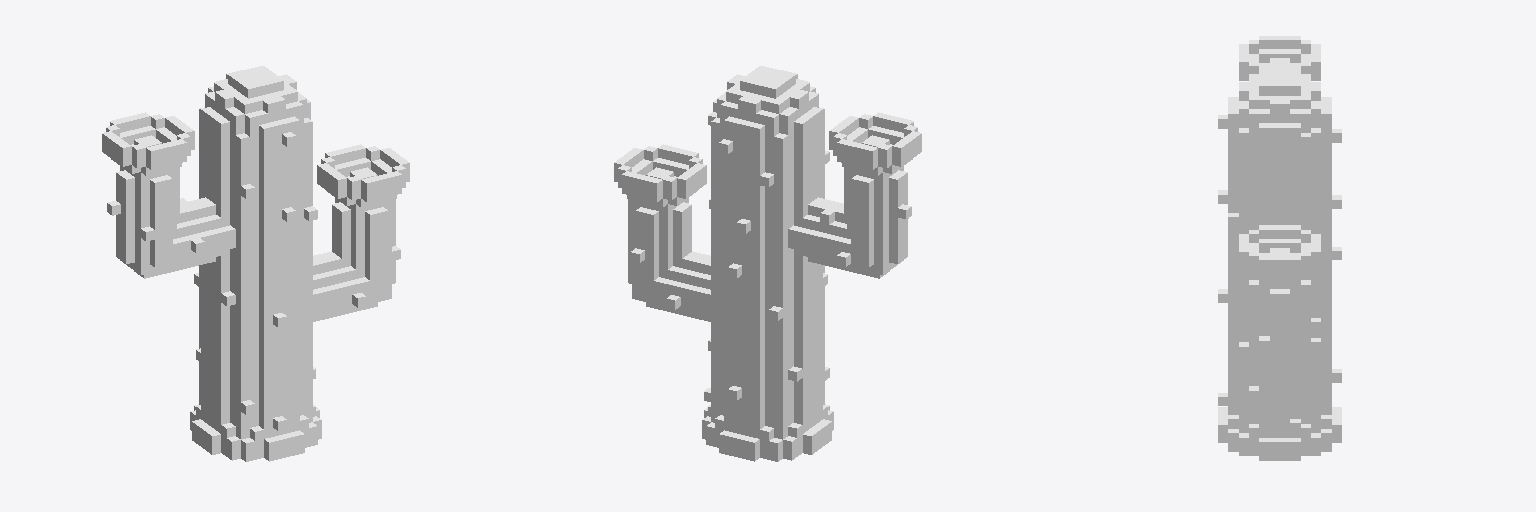
Rendered from CocktusFlower.obj.
3 views of the same model, side by side, from view 1: azimuth 30°, elevation 25°; view 2: azimuth 150°, elevation 25°; view 3: azimuth 270°, elevation 25° (orthographic).
Visible parts, largest first — view 1: object 1; view 2: object 1; view 3: object 1.
Boxes of the visible parts, x1,y1,x2,y2 form: object 1: [102, 66, 409, 461]; object 1: [614, 66, 921, 461]; object 1: [1218, 36, 1341, 460].
Bounding box in the file's own units: 3.2 × 3.8 × 1.2.